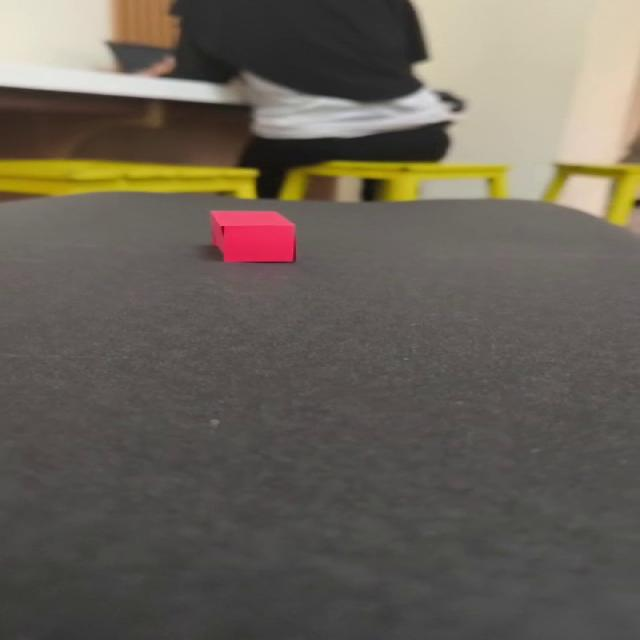red block: (208, 209, 296, 263)
